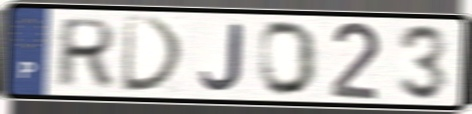2: (329, 20, 382, 102)
3: (396, 22, 452, 103)
D: (120, 14, 189, 94)
J: (197, 22, 244, 93)
O: (258, 18, 320, 99)
R: (52, 16, 120, 90)
